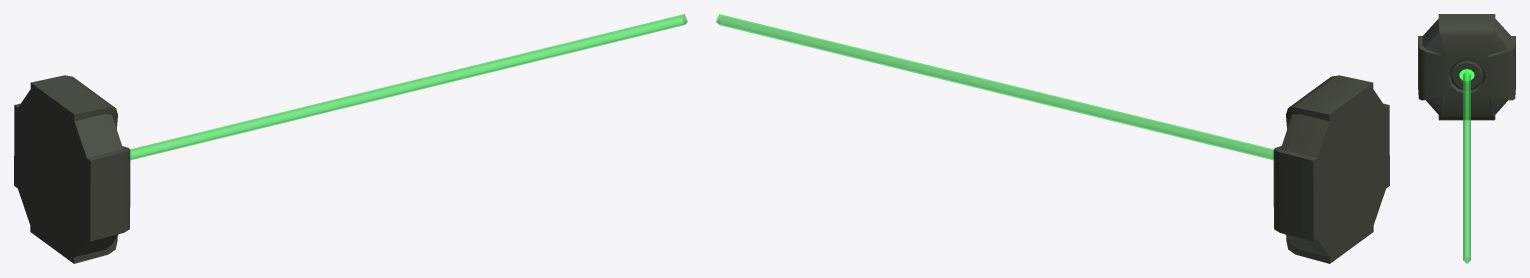
File: Turret Trigger.FBX
3 renders of one model, left to right at view 1: azimuth 30°, elevation 25°; view 2: azimuth 150°, elevation 25°; view 3: azimuth 270°, elevation 25°, orthographic. The views are drawn at different scales.
Parts seen in each view (by area): view 1: Object1029, Cylinder031; view 2: Object1029, Cylinder031; view 3: Object1029, Cylinder031.
Boxes of the visible parts, <box> form: Object1029: <box>14,75,130,263</box>; Cylinder031: <box>130,14,687,160</box>; Object1029: <box>1273,75,1389,263</box>; Cylinder031: <box>716,14,1273,160</box>; Object1029: <box>1418,14,1515,120</box>; Cylinder031: <box>1463,71,1470,263</box>.
Size of the model in its own units: 37.47 by 8.44 by 7.82.
